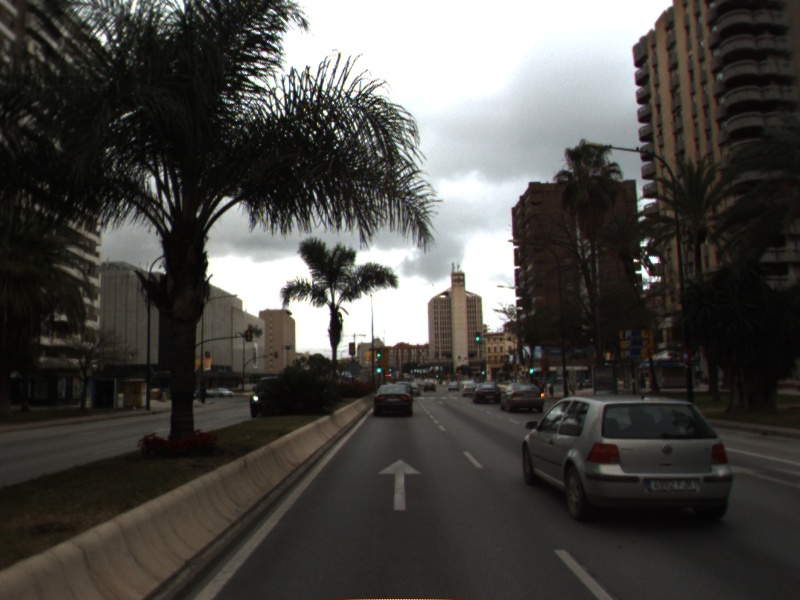STRAIGHT: (375, 456, 424, 513), (727, 461, 800, 492)
